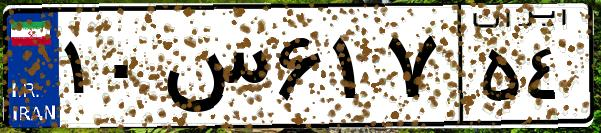0: (110, 28, 158, 98)
1: (330, 28, 385, 110), (57, 26, 110, 100)
4: (525, 38, 570, 115)
5: (475, 38, 525, 113)
6: (270, 28, 330, 110)
7: (385, 28, 445, 110)
س: (158, 20, 270, 120)
